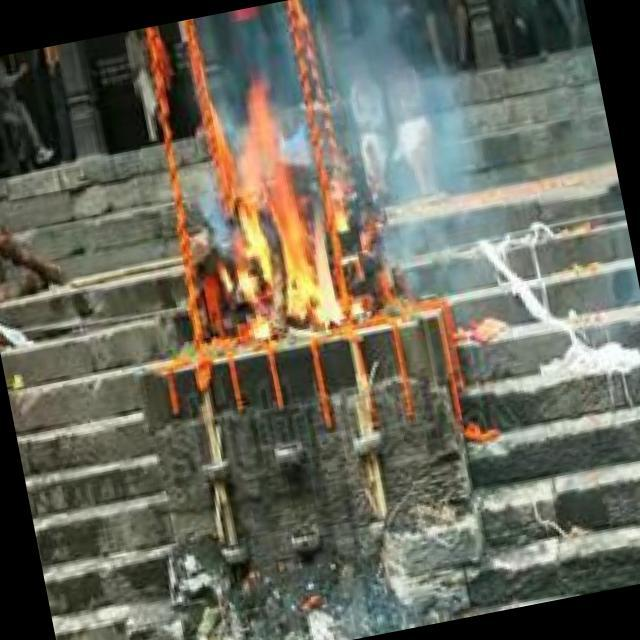Fire: (200, 96, 365, 347)
